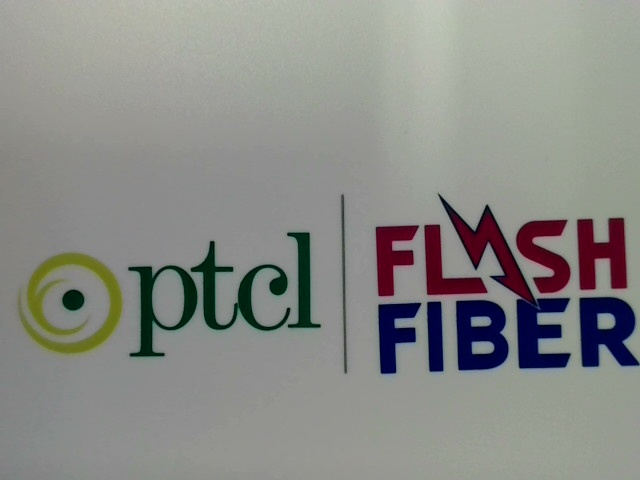BF_PTCL: (17, 220, 328, 369)
